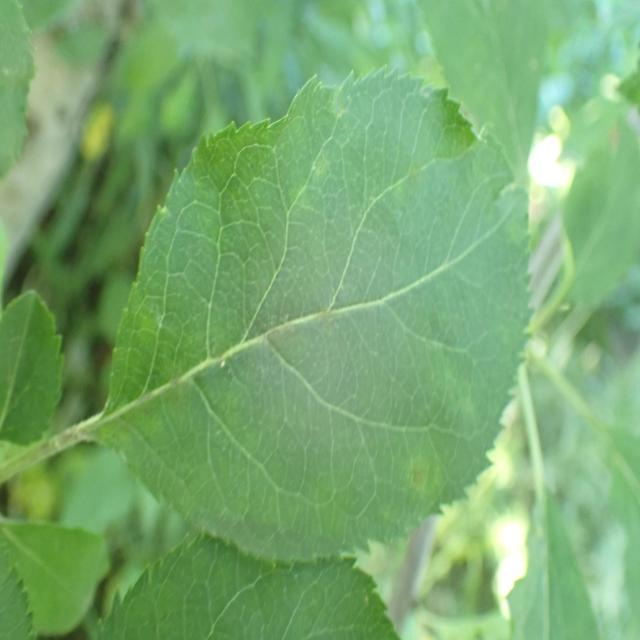scab: (102, 128, 453, 528)
